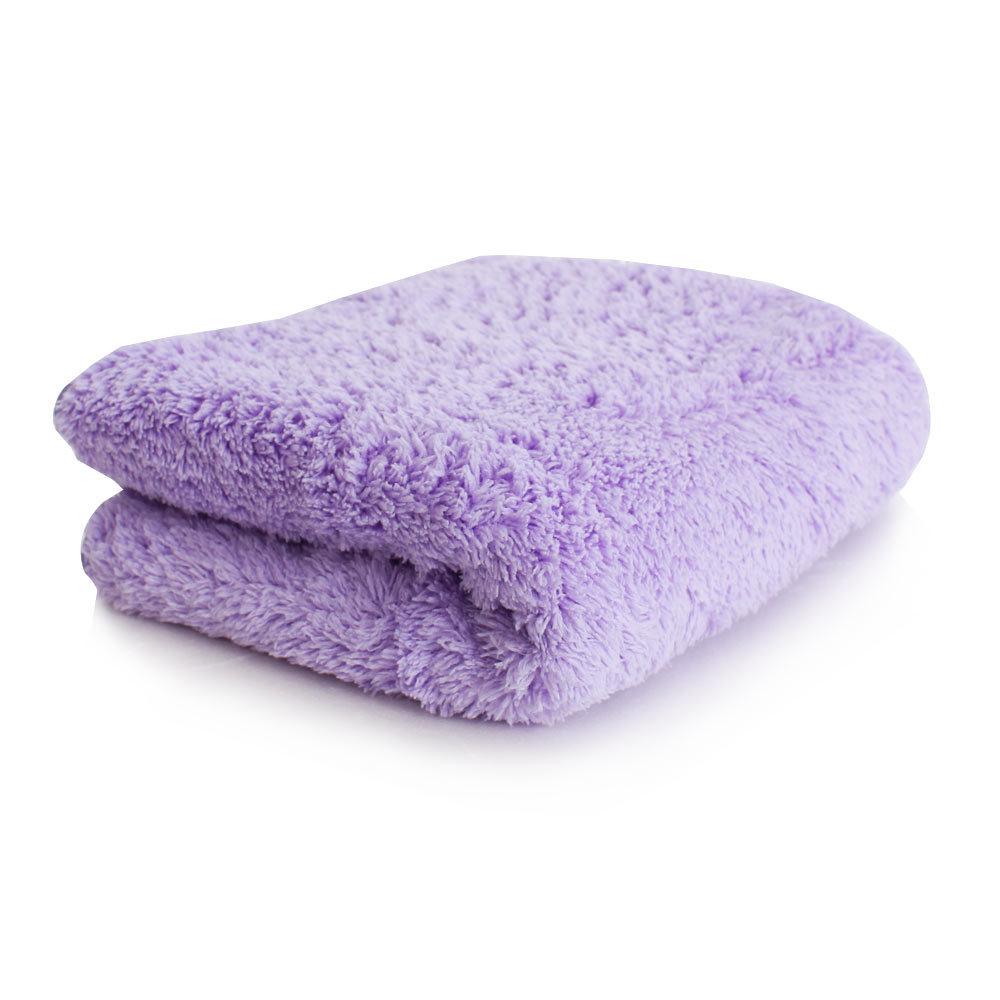flexible: (55, 248, 935, 735)
